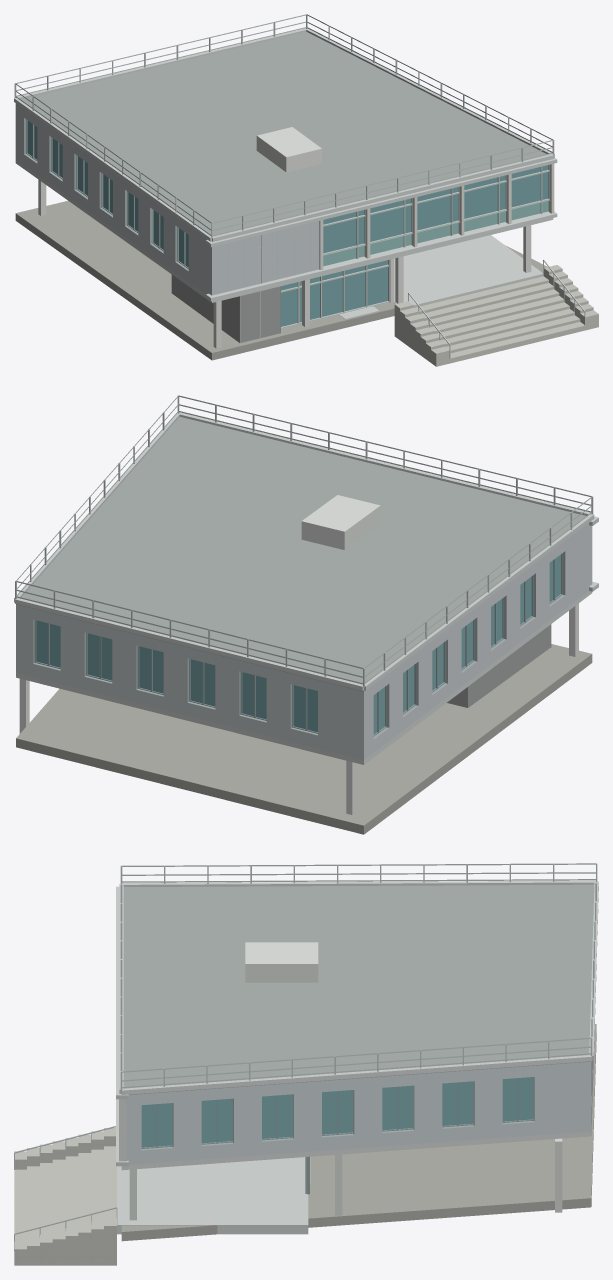
3 renders of one model, top to bottom at view 1: azimuth 30°, elevation 25°; view 2: azimuth 150°, elevation 25°; view 3: azimuth 270°, elevation 25°, orthographic. The views are drawn at different scales.
Visible parts, largest first — view 1: bi-1__roofSlab, bi-1__exactFoundation, bi-1__lightFrame, bi-1__frontStairTreads, bi-1__estimatedUpperSide_2, bi-1__upperOfficeGlass, bi-1__pilotiPaving, bi-1__roofCoping, bi-1__upperLeftMetalPanels, bi-1__frontSlabEdges, bi-1__leftGroundRoomGlass, bi-1__leftStoneServiceCore (+12 smaller); view 2: bi-1__roofSlab, bi-1__exactFoundation, bi-1__estimatedUpperSide_3, bi-1__estimatedUpperSide_2, bi-1__lightFrame, bi-1__roofCoping, bi-1__estimatedUpperSide_3Glass, bi-1__upperFloorSoffit, bi-1__smallRoofAccessHead, bi-1__estimatedUpperSide_2Glass, bi-1__leftStoneServiceCore, bi-1__estimatedUpperSide_3Frames (+4 smaller); view 3: bi-1__roofSlab, bi-1__estimatedUpperSide_0, bi-1__exactFoundation, bi-1__pilotiPaving, bi-1__estimatedUpperSide_0Glass, bi-1__frontStairTreads, bi-1__lightFrame, bi-1__roofCoping, bi-1__frontStairCheeks, bi-1__smallRoofAccessHead, bi-1__upperFloorSoffit, bi-1__estimatedUpperSide_0Frames (+3 smaller).
Part boxes in pixels (x1,y1,x2,y2): bi-1__roofSlab: [21, 31, 546, 235]; bi-1__exactFoundation: [15, 201, 547, 360]; bi-1__lightFrame: [14, 14, 554, 328]; bi-1__frontStairTreads: [414, 276, 585, 363]; bi-1__estimatedUpperSide_2: [15, 103, 211, 295]; bi-1__upperOfficeGlass: [323, 165, 548, 253]; bi-1__pilotiPaving: [394, 235, 543, 307]; bi-1__roofCoping: [14, 28, 554, 241]; bi-1__upperLeftMetalPanels: [212, 221, 319, 295]; bi-1__frontSlabEdges: [206, 157, 557, 301]; bi-1__leftGroundRoomGlass: [281, 260, 387, 326]; bi-1__leftStoneServiceCore: [171, 274, 280, 342]; bi-1__roofSlab: [16, 417, 585, 691]; bi-1__exactFoundation: [16, 644, 592, 834]; bi-1__estimatedUpperSide_3: [16, 604, 363, 759]; bi-1__estimatedUpperSide_2: [364, 523, 592, 759]; bi-1__lightFrame: [15, 395, 593, 687]; bi-1__roofCoping: [14, 412, 594, 690]; bi-1__estimatedUpperSide_3Glass: [36, 620, 317, 732]; bi-1__upperFloorSoffit: [16, 591, 592, 764]; bi-1__smallRoofAccessHead: [301, 495, 380, 549]; bi-1__estimatedUpperSide_2Glass: [373, 554, 560, 734]; bi-1__leftStoneServiceCore: [447, 624, 550, 707]; bi-1__estimatedUpperSide_3Frames: [34, 620, 317, 733]; bi-1__roofSlab: [123, 884, 594, 1094]; bi-1__estimatedUpperSide_0: [121, 1061, 591, 1164]; bi-1__exactFoundation: [121, 1024, 596, 1241]; bi-1__pilotiPaving: [117, 1158, 308, 1234]; bi-1__estimatedUpperSide_0Glass: [141, 1077, 533, 1147]; bi-1__frontStairTreads: [14, 1146, 116, 1241]; bi-1__lightFrame: [120, 863, 597, 1091]; bi-1__roofCoping: [119, 880, 598, 1094]; bi-1__frontStairCheeks: [14, 1128, 116, 1265]; bi-1__smallRoofAccessHead: [245, 942, 318, 982]; bi-1__upperFloorSoffit: [121, 968, 596, 1170]; bi-1__estimatedUpperSide_0Frames: [141, 1077, 534, 1148].
Size of the model in its own units: 24.46 by 10.46 by 28.75.
13 materials, 1 textured.
